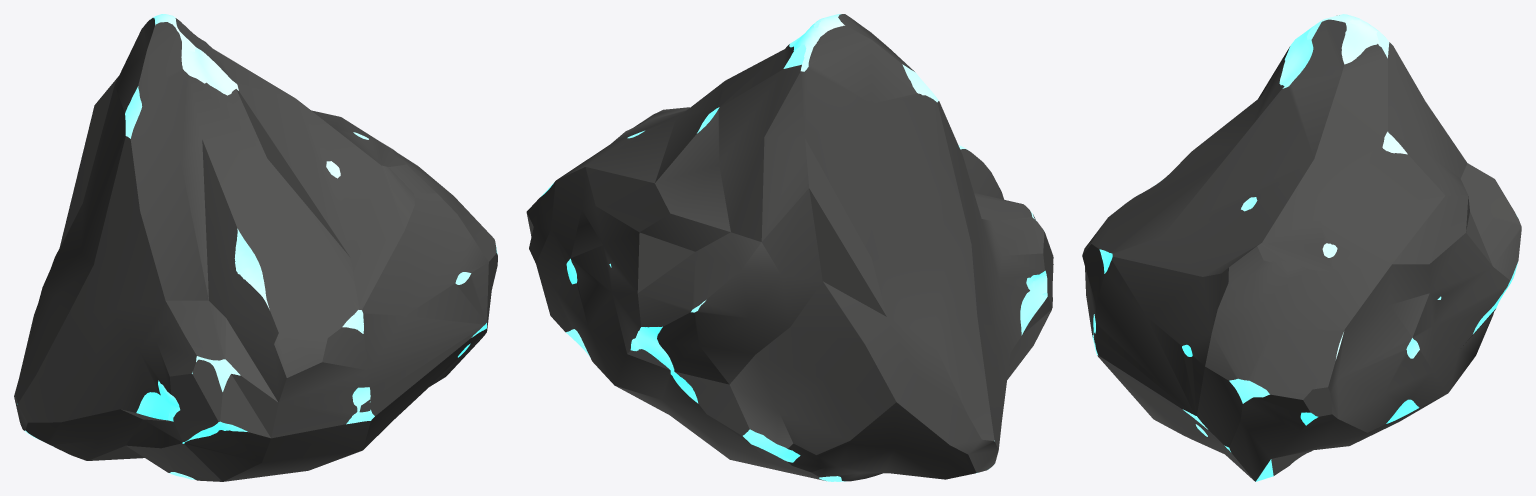
The model's file is Asteroid_0.fbx.
3 views of the same model, side by side, from view 1: azimuth 30°, elevation 25°; view 2: azimuth 150°, elevation 25°; view 3: azimuth 270°, elevation 25° (orthographic). The views are drawn at different scales.
Visible parts, largest first — view 1: asteroid 1; view 2: asteroid 1; view 3: asteroid 1.
Boxes of the visible parts, x1=… form: asteroid 1: x1=14, y1=14, x2=497, y2=481; asteroid 1: x1=526, y1=14, x2=1053, y2=481; asteroid 1: x1=1082, y1=14, x2=1521, y2=481.
Bounding box in the file's own units: 264 × 242 × 237.
